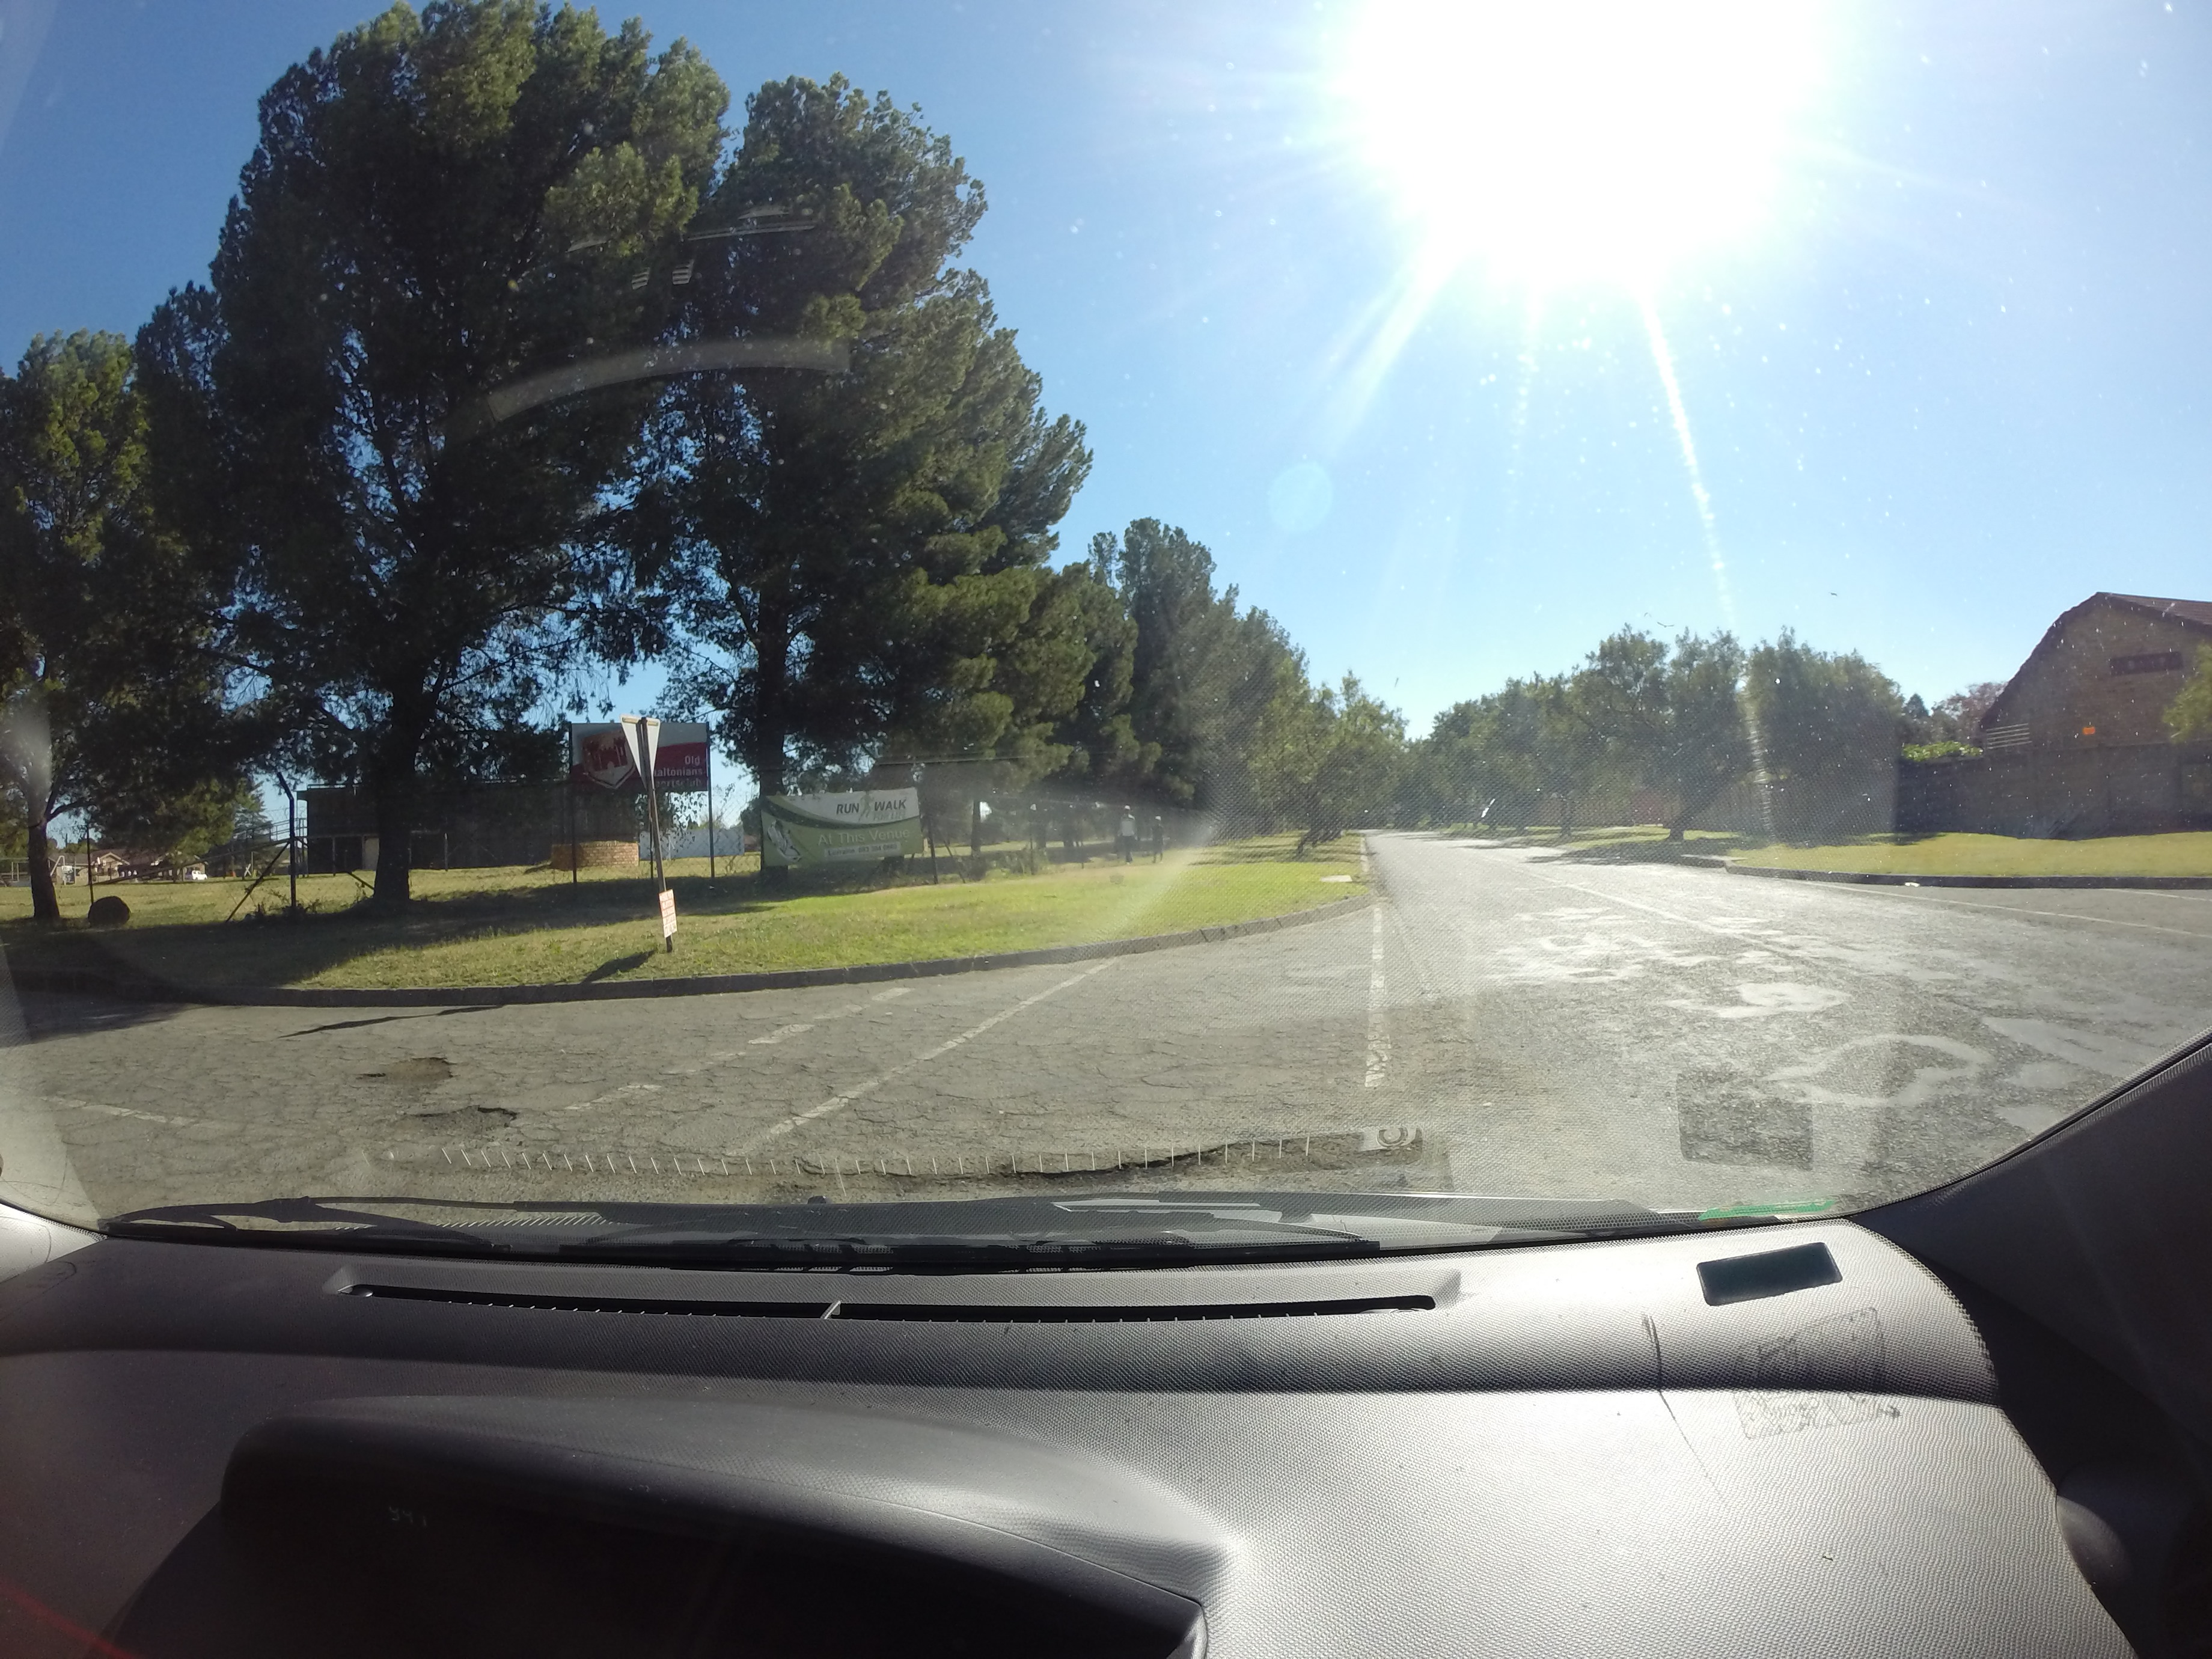pothole: (916, 1110, 1409, 1192), (348, 1042, 549, 1162)
